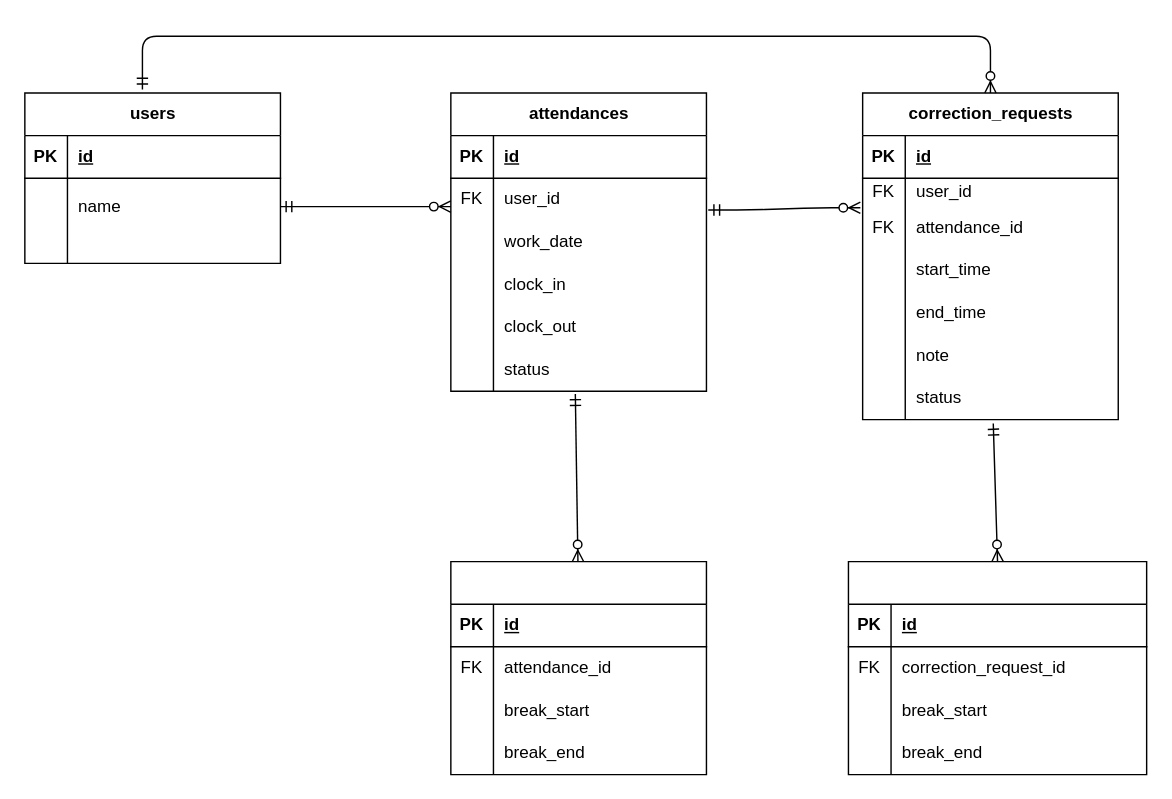
This 1172x799 diagram has some shape labels left out. Each missing label, with the box of its shape:
break_times: (449, 560, 706, 775)
correction_request_break_times: (847, 560, 1147, 775)
